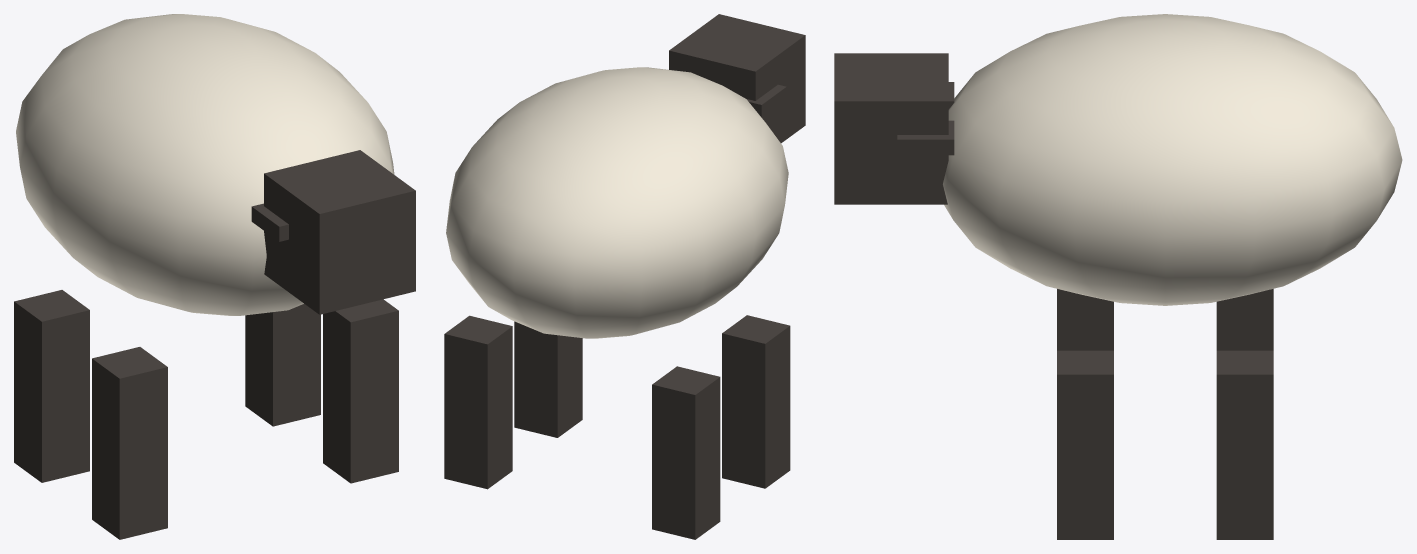
Rendered from sheep.glb.
3 renders of one model, left to right at view 1: azimuth 30°, elevation 25°; view 2: azimuth 150°, elevation 25°; view 3: azimuth 270°, elevation 25°, orthographic. The views are drawn at different scales.
Parts seen in each view (by area): view 1: body, head, leg2, leg3, leg0, leg1, ear0; view 2: body, leg3, leg2, leg1, head, leg0, ear0; view 3: body, head, leg1, leg0, leg3, leg2, ear1.
Boxes of the visible parts, x1,y1,x2,y2 form: body: (16,14,394,315); head: (264,150,415,314); leg2: (92,347,167,539); leg3: (14,290,89,482); leg0: (323,299,398,483); leg1: (245,304,320,426); ear0: (251,203,288,241); body: (446,67,788,338); leg3: (652,366,720,539); leg2: (722,315,790,488); leg1: (444,315,512,489); head: (669,14,805,143); leg0: (514,321,582,437); ear0: (746,84,786,117); body: (943,14,1402,305); head: (834,53,948,204); leg1: (1216,350,1273,539); leg0: (1057,350,1113,539); leg3: (1216,289,1273,350); leg2: (1057,289,1113,350); ear1: (897,120,954,155).
Bounding box in the file's own units: 0.64 × 0.84 × 0.996.
